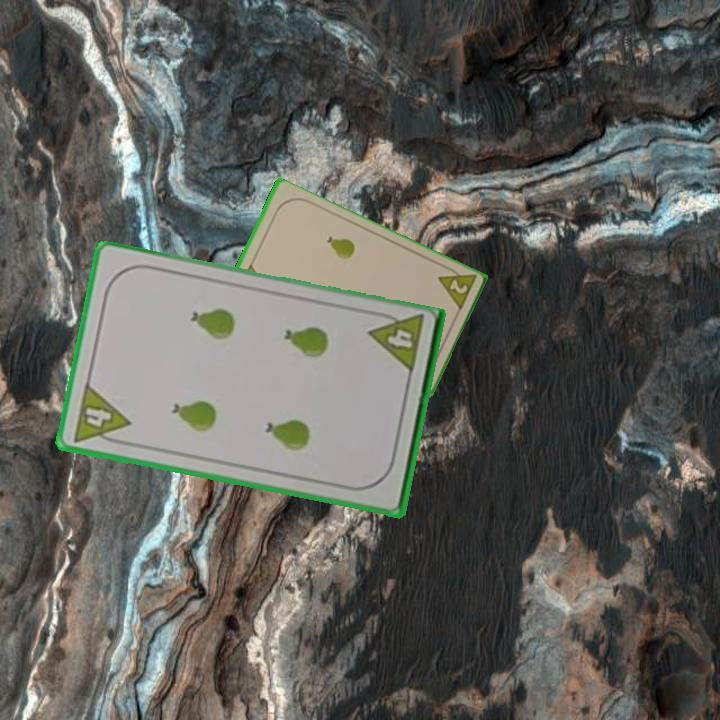2p: (433, 261, 479, 315)
4p: (69, 380, 133, 449), (366, 308, 427, 378)
